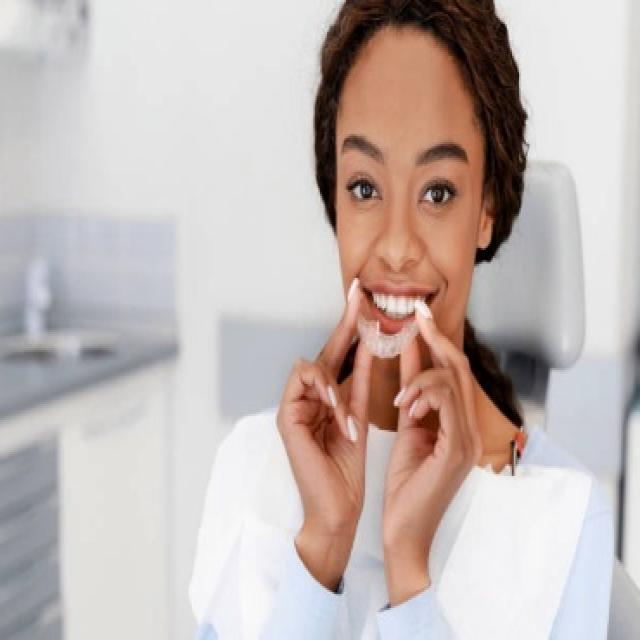adult: (192, 0, 592, 640)
